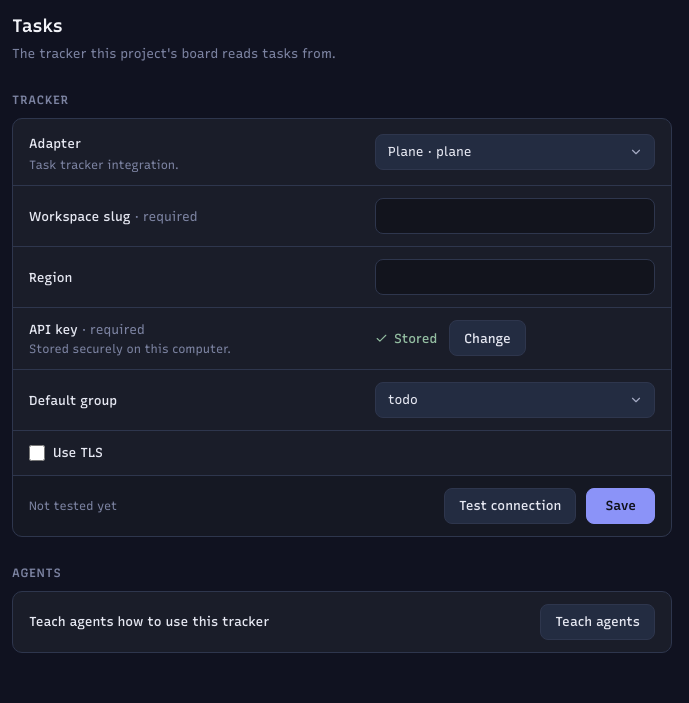
Test case: KanbanSettings › blocks save and renders an inline error when a required field is empty
The image size is (689, 703).
Click the button with test id "settings-kanban-save": click(621, 506) left=586, top=488, right=655, bottom=524
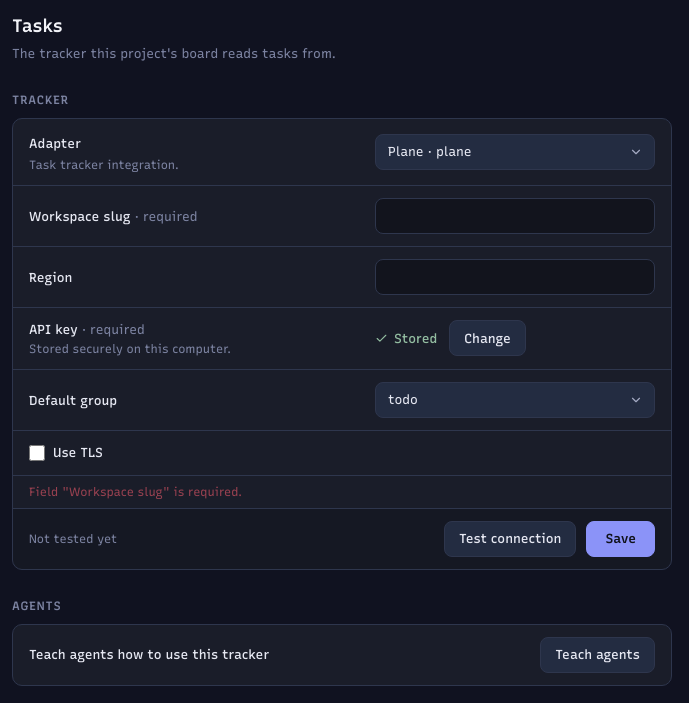
Now the message "Field \"Workspace slug\" is required." is shown, box left=13, top=474, right=671, bottom=508
